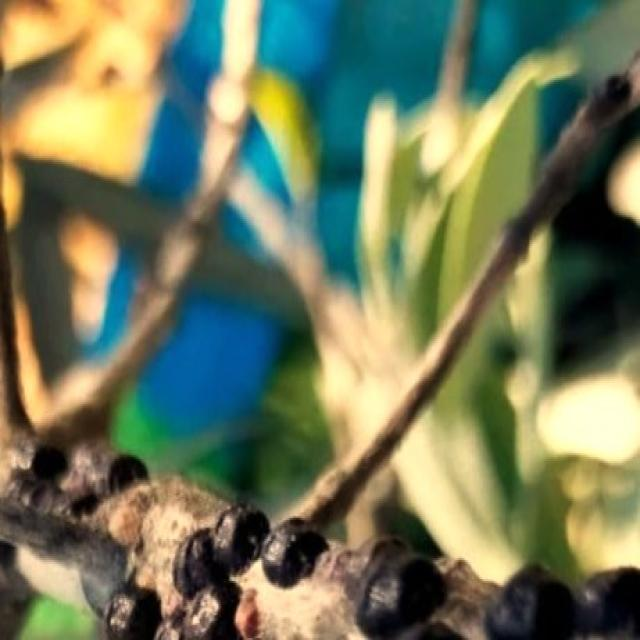Black Scale: (490, 536, 640, 640), (344, 535, 446, 638), (174, 505, 269, 596), (103, 579, 240, 638), (261, 516, 329, 587)
